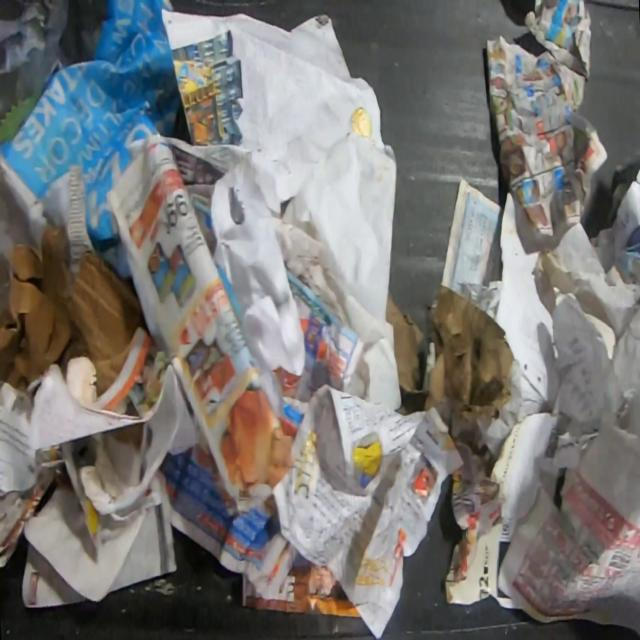cardboard: (0, 225, 150, 400), (386, 284, 514, 422)
